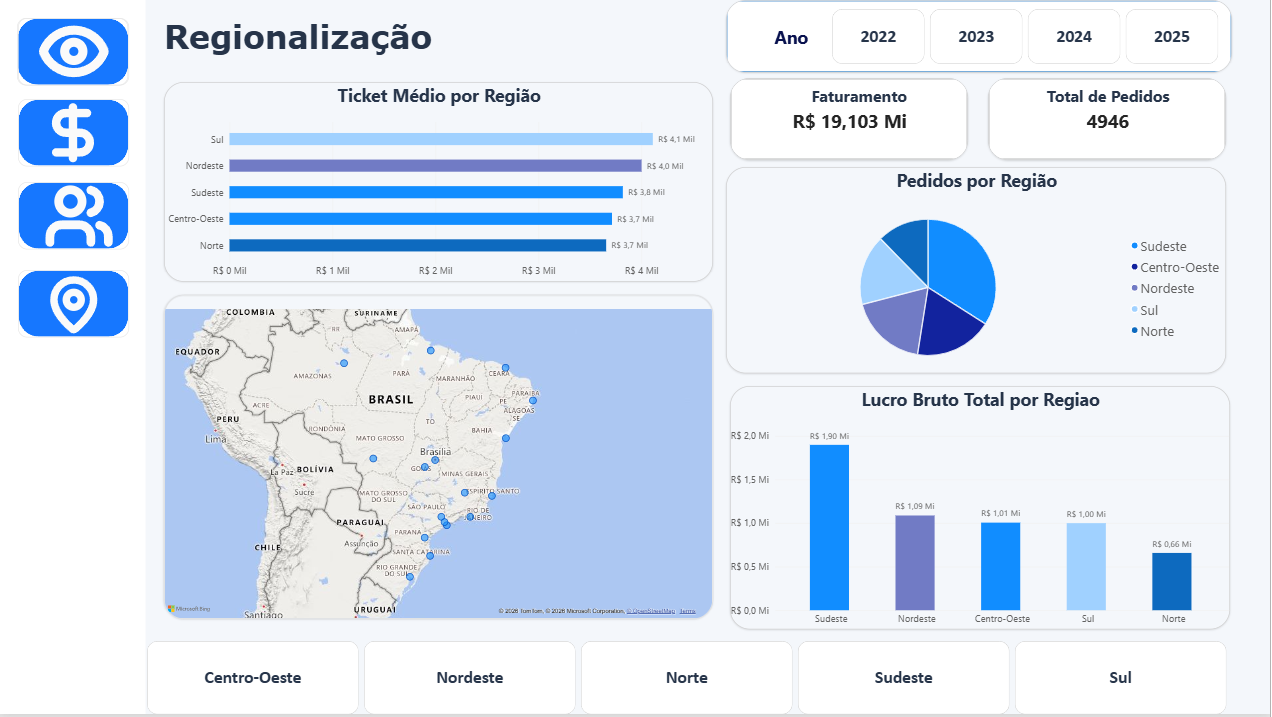

The page's visual inventory and layout, read from the dashboard file:
{"tool":"powerbi","page":{"name":"Regionalização","canvas":[1920,1080],"ordinal":3},"visuals":[{"type":"shape","box":[1097.6,0,765,110],"z":0},{"type":"shape","box":[0,0,220,1080],"z":1000},{"type":"actionButton","box":[26.9,275.4,167.6,101.8],"z":2000},{"type":"actionButton","box":[26.9,408.5,167.6,101.8],"z":3000},{"type":"textbox","box":[591.1,218.3,141.7,28.9],"z":4000},{"type":"textbox","box":[1151.7,38.3,88.3,40],"z":5000},{"type":"actionButton","box":[25,26.7,167.6,101.8],"z":6000},{"type":"actionButton","box":[26.9,26.9,167.6,101.8],"z":7000},{"type":"actionButton","box":[26.9,149.6,167.6,101.8],"z":8000},{"type":"advancedSlicerVisual","fields":{"Values":["dCalendario.Ano"]},"box":[1258.3,13.3,601.7,166.7],"z":9000},{"type":"cardVisual","fields":{"Data":["Medidas.Lucro Total"]},"box":[1104,118,360,124],"z":10000},{"type":"cardVisual","fields":{"Data":["Medidas.Total Pedidos"]},"box":[1494,118,360,124],"z":11000},{"type":"textbox","box":[1130,128,346,40],"z":12000},{"type":"textbox","box":[1510,128,330,40],"z":13000},{"type":"map","fields":{"Category":["dCliente.Cidade"]},"box":[248,446,830,490],"z":14000},{"type":"advancedSlicerVisual","fields":{"Values":["dCliente.Regiao"]},"box":[221.7,968.3,1658.3,111.7],"z":15000},{"type":"pieChart","title":"Pedidos por Região","fields":{"Category":["dCliente.Regiao"],"Y":["Medidas.Total Pedidos"]},"box":[1098,252,756,312],"z":16000},{"type":"clusteredColumnChart","fields":{"Category":["dCliente.Regiao"],"Y":["Medidas.Lucro Bruto Total"]},"box":[1104,584,756,368],"z":17000},{"type":"clusteredBarChart","title":"Ticket Médio por Região","fields":{"Category":["dCliente.Regiao"],"Y":["Medidas.Ticket Médio"]},"box":[248,124,830,302],"z":18000},{"type":"textbox","box":[248,26,812,84],"z":19000},{"type":"image","box":[10,23.3,202,110],"z":20000},{"type":"image","box":[1.7,415,220,90],"z":21000},{"type":"image","box":[20,273.3,200,106],"z":22000},{"type":"image","box":[40,150,142,102],"z":23000}]}

Visuals, with their boxes in screenshot pixels (x1, y1, x2, y2), scaled from the page's 1920x1080 canvas onto the 1272x717 screenshot:
shape: rect(727, 0, 1234, 73)
shape: rect(0, 0, 146, 716)
actionButton: rect(18, 183, 129, 250)
actionButton: rect(18, 271, 129, 339)
textbox: rect(392, 145, 485, 164)
textbox: rect(763, 25, 822, 52)
actionButton: rect(17, 18, 128, 85)
actionButton: rect(18, 18, 129, 85)
actionButton: rect(18, 99, 129, 167)
advancedSlicerVisual - dCalendario.Ano: rect(834, 9, 1232, 120)
cardVisual - Medidas.Lucro Total: rect(731, 78, 970, 161)
cardVisual - Medidas.Total Pedidos: rect(990, 78, 1228, 161)
textbox: rect(749, 85, 978, 112)
textbox: rect(1000, 85, 1219, 112)
map - dCliente.Cidade: rect(164, 296, 714, 621)
advancedSlicerVisual - dCliente.Regiao: rect(147, 643, 1246, 716)
"Pedidos por Região" pieChart: rect(727, 167, 1228, 374)
clusteredColumnChart - dCliente.Regiao x Medidas.Lucro Bruto Total: rect(731, 388, 1232, 632)
"Ticket Médio por Região" clusteredBarChart: rect(164, 82, 714, 283)
textbox: rect(164, 17, 702, 73)
image: rect(7, 15, 140, 88)
image: rect(1, 276, 147, 335)
image: rect(13, 181, 146, 252)
image: rect(26, 100, 121, 167)
